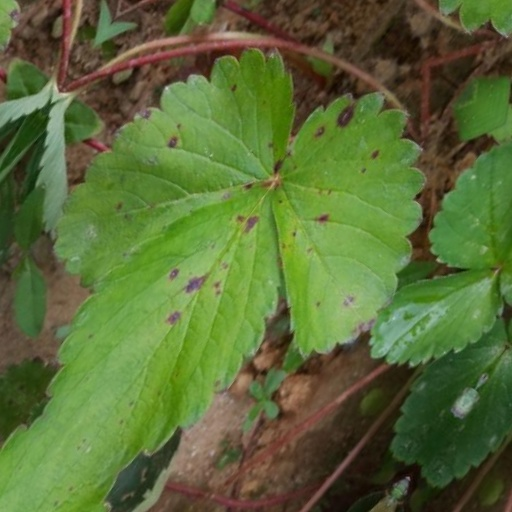Leaf Spot: (195, 185, 368, 511), (288, 78, 448, 387), (118, 46, 298, 310)
